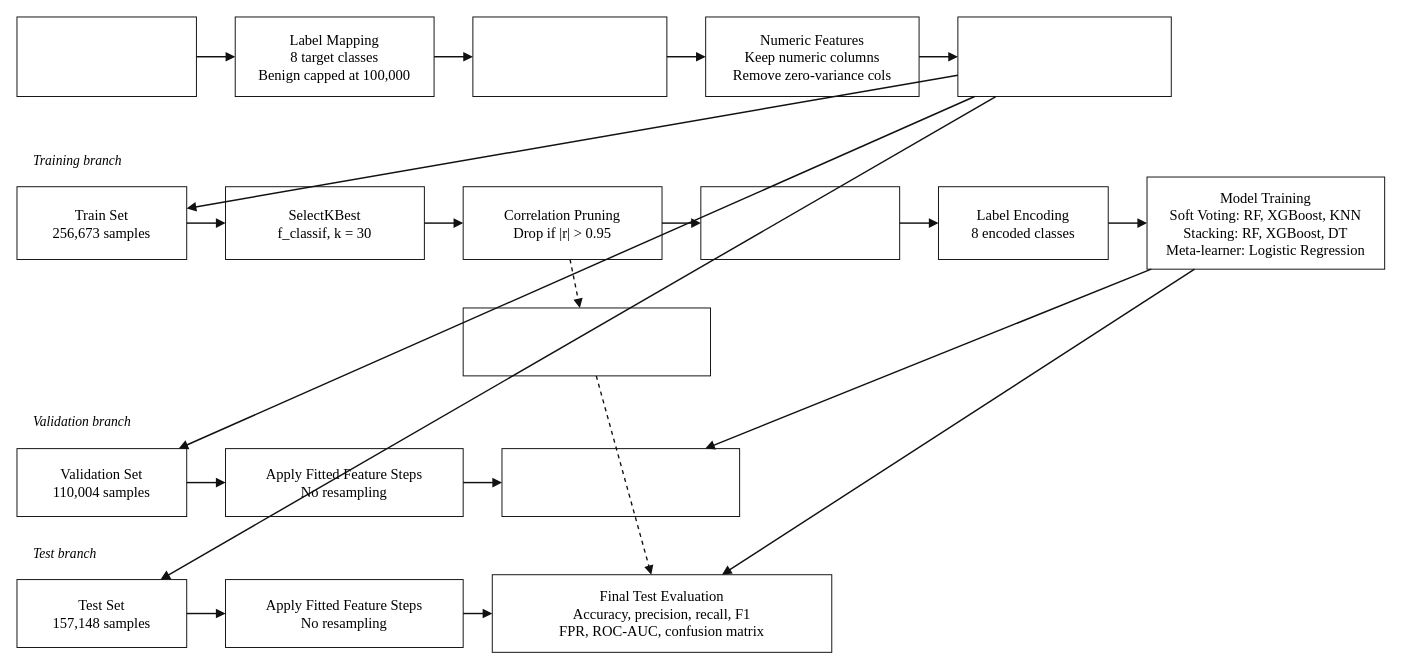
This 1402x669 diagram has some shape labels left out. The box of each missing label's shape, as (x1, y1, x2, y2) in pixels:
CICIDS2017 CSV flow records 78 features + label: (16, 16, 196, 97)
Data Cleaning NaN / inf handled Duplicate rows removed: (472, 16, 667, 97)
No-Sampling Baseline Same models without SMOTE-Tomek: (462, 307, 711, 376)
SMOTE-Tomek Training set only: (700, 186, 900, 259)
Stratified Split Train 49% | Val 21% Test 30%: (957, 16, 1171, 97)
Validation Diagnostics Classification report, curves: (501, 448, 740, 517)
